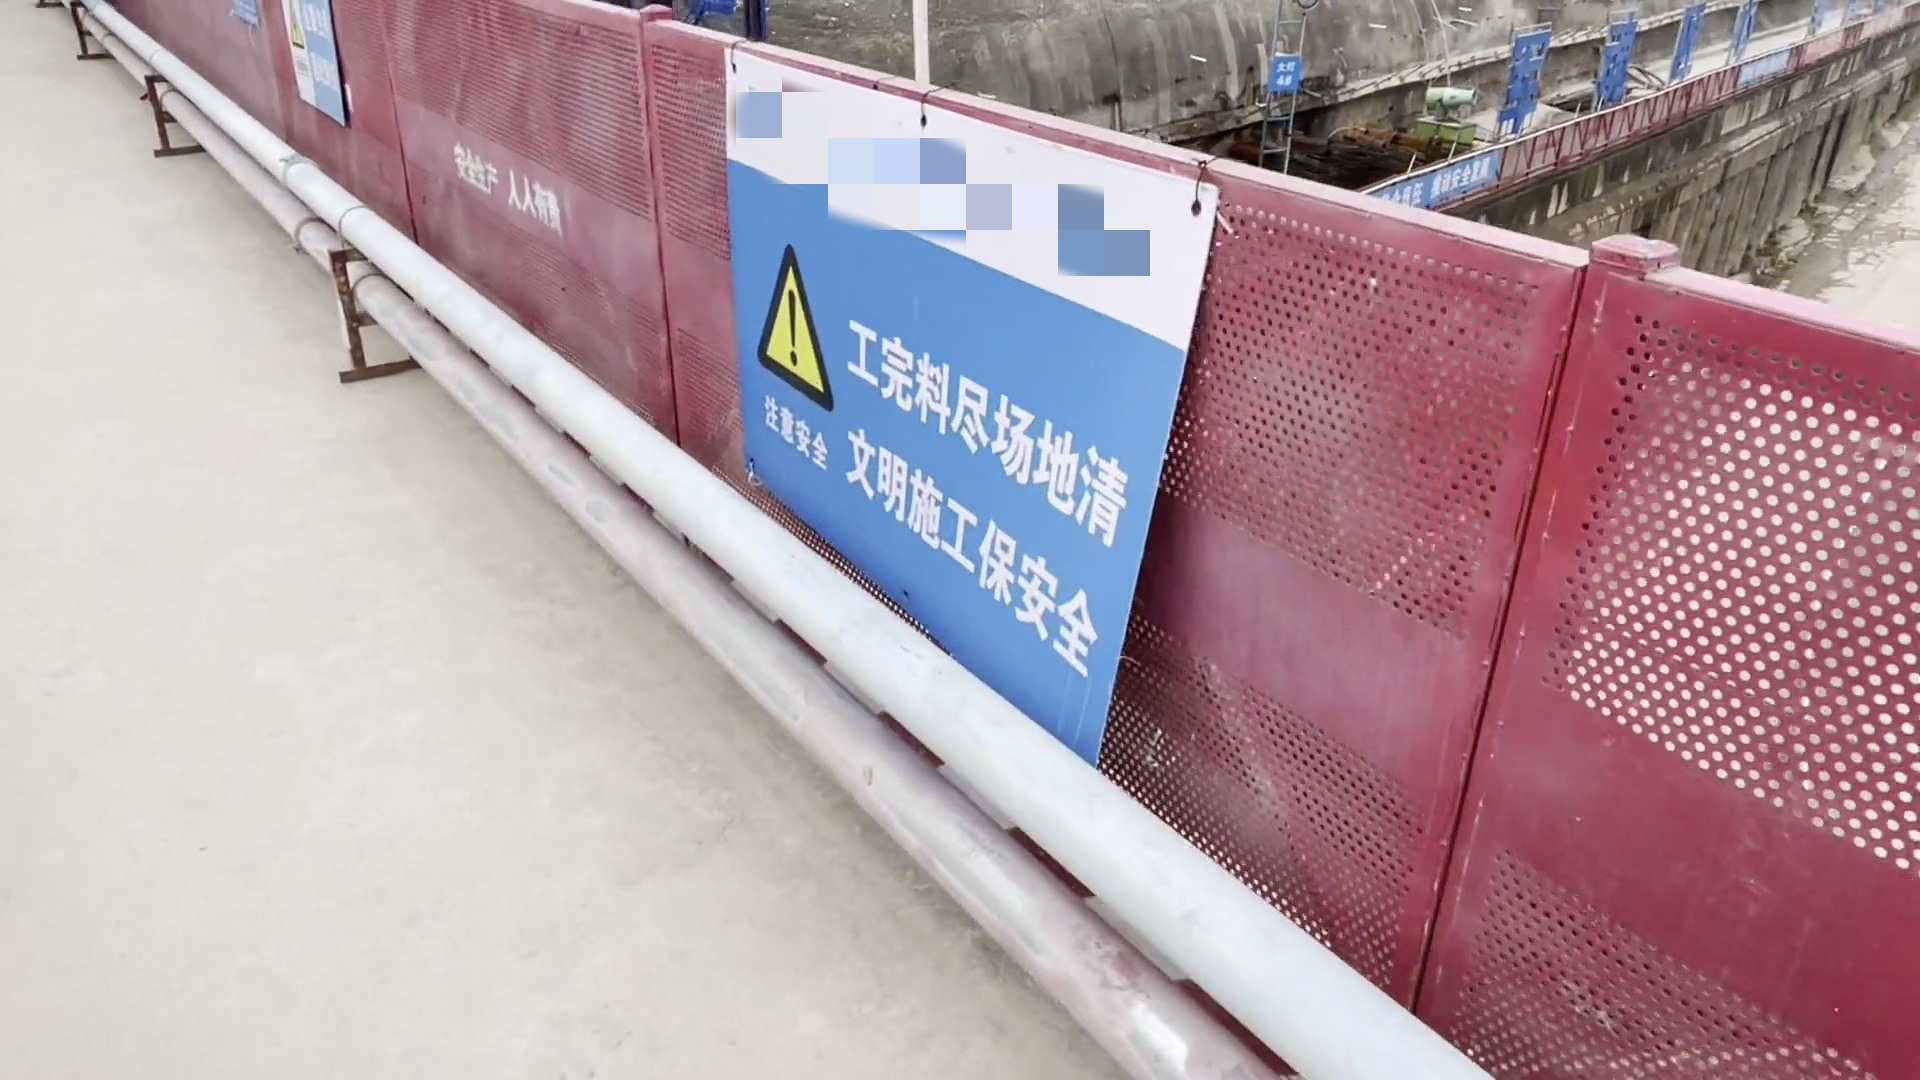fence: (1329, 198, 1917, 1079)
slogan: (703, 32, 1226, 800)
